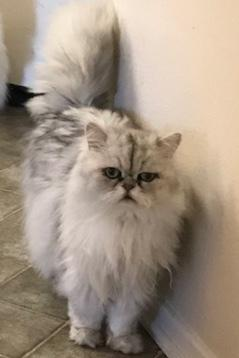persian: (76, 115, 192, 233)
